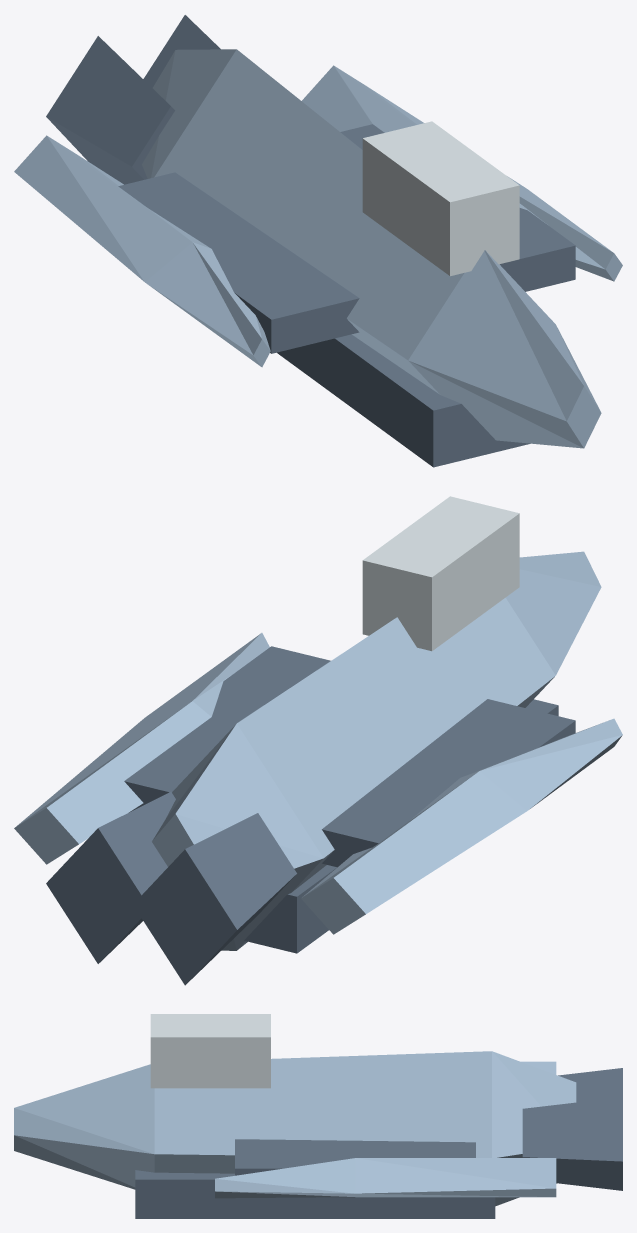
3 views of the same model, one above another, from view 1: azimuth 30°, elevation 25°; view 2: azimuth 150°, elevation 25°; view 3: azimuth 270°, elevation 25° (orthographic). The views are drawn at different scales.
Bounding box in the file's own units: 3.24 × 2.14 × 6.49.
